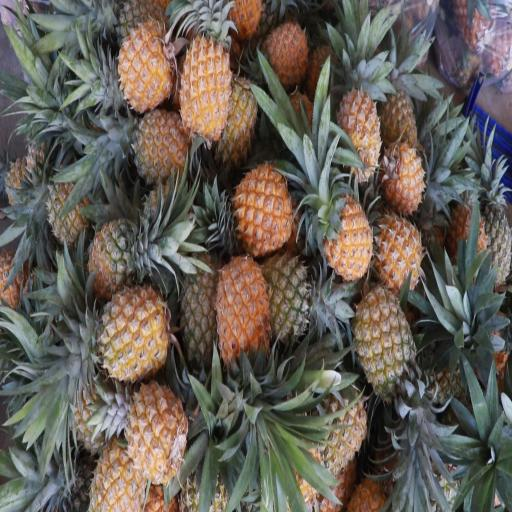------------------------------: (348, 276, 422, 401), (83, 203, 146, 294)
Pineapple - v8 v1: (88, 280, 175, 380), (216, 225, 273, 366), (121, 373, 190, 485), (177, 16, 233, 143), (121, 94, 194, 188), (226, 147, 292, 243), (334, 65, 384, 189), (322, 180, 377, 286), (311, 382, 371, 478), (117, 22, 172, 118), (83, 432, 143, 510), (260, 14, 313, 96), (372, 204, 424, 287), (380, 128, 428, 211)
